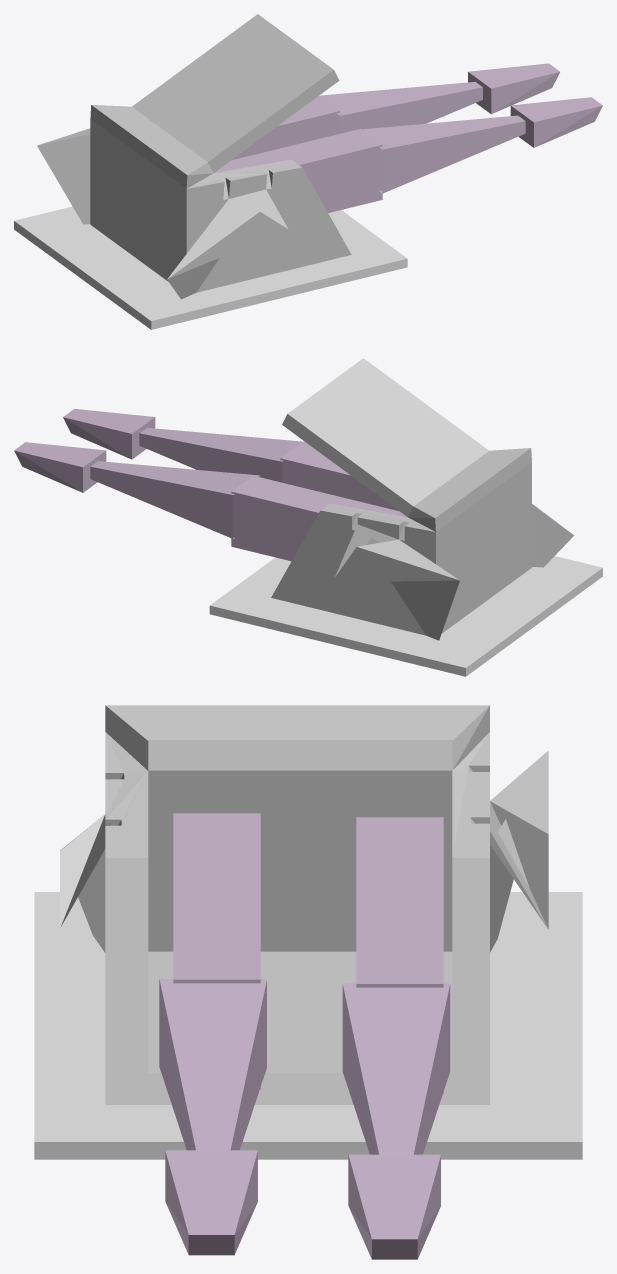
The model's file is turret_dae.dae.
3 renders of one model, top to bottom at view 1: azimuth 30°, elevation 25°; view 2: azimuth 150°, elevation 25°; view 3: azimuth 270°, elevation 25°, orthographic. The views are drawn at different scales.
Visible parts, largest first — view 1: body, arrow, plane; view 2: body, arrow, plane; view 3: body, arrow, plane.
Part boxes in pixels (box(x1,y1,x2,y2)): body: box(37, 14, 351, 299); arrow: box(214, 63, 602, 212); plane: box(14, 206, 407, 329); body: box(271, 358, 573, 640); arrow: box(14, 409, 407, 561); plane: box(209, 556, 602, 676); body: box(60, 705, 548, 1104); arrow: box(159, 813, 450, 1259); plane: box(34, 892, 582, 1159).
Size of the model in its own units: 2.81 by 1.36 by 1.04.
